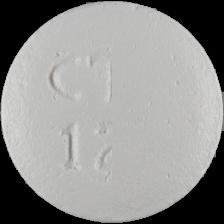50090-1045: (0, 0, 224, 224)
